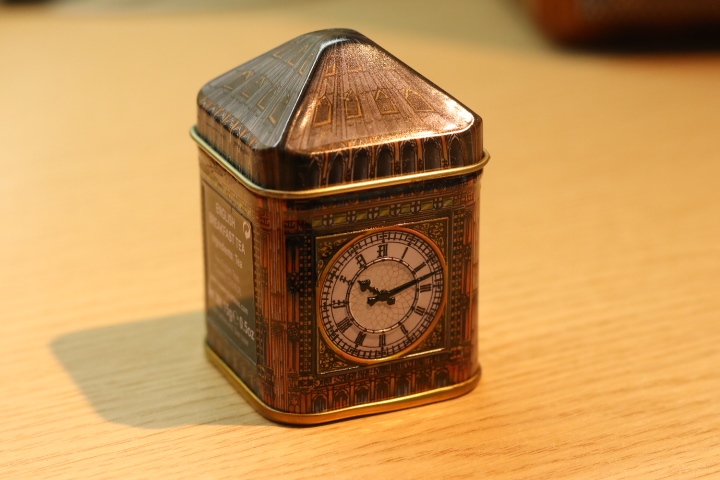Big Ben: (179, 19, 507, 439)
